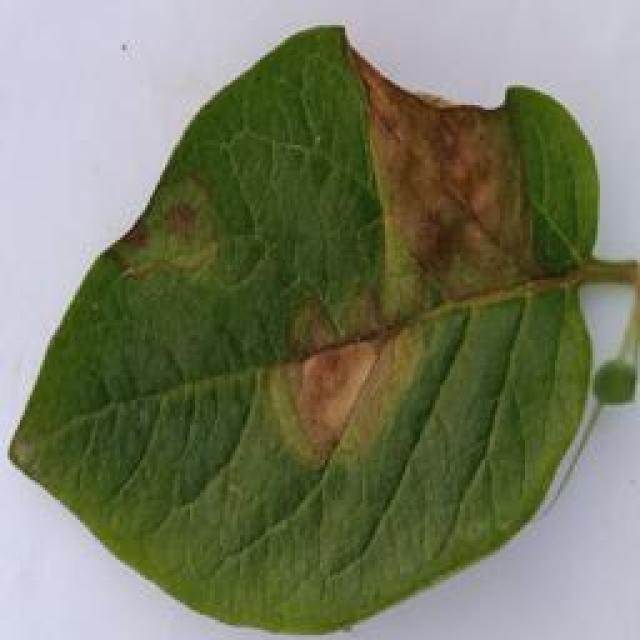Potato_Late_Blight: (10, 26, 626, 633)
